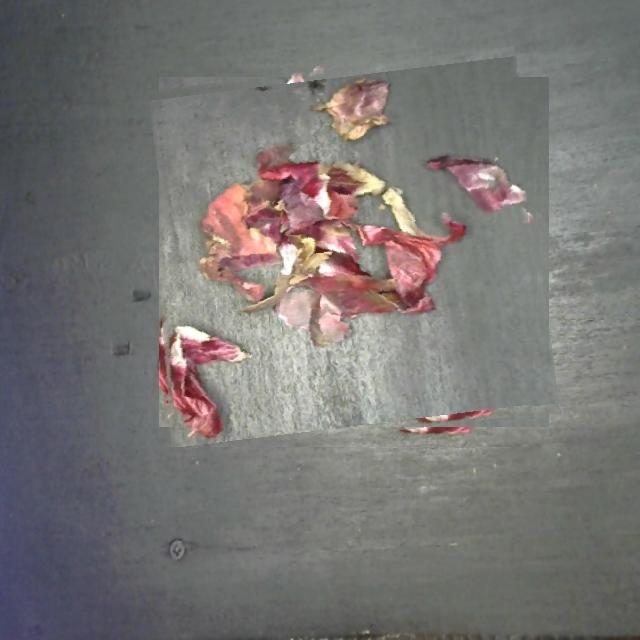biodegradable: (159, 57, 549, 447)
